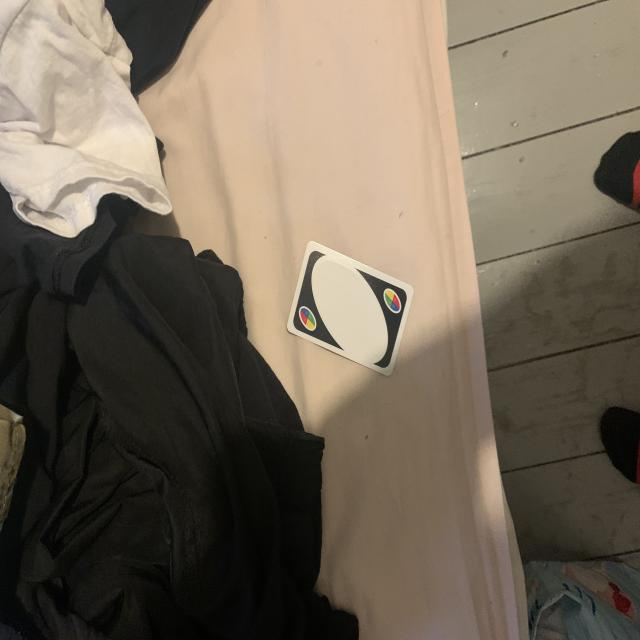lcolor-40: (295, 305, 320, 334)
